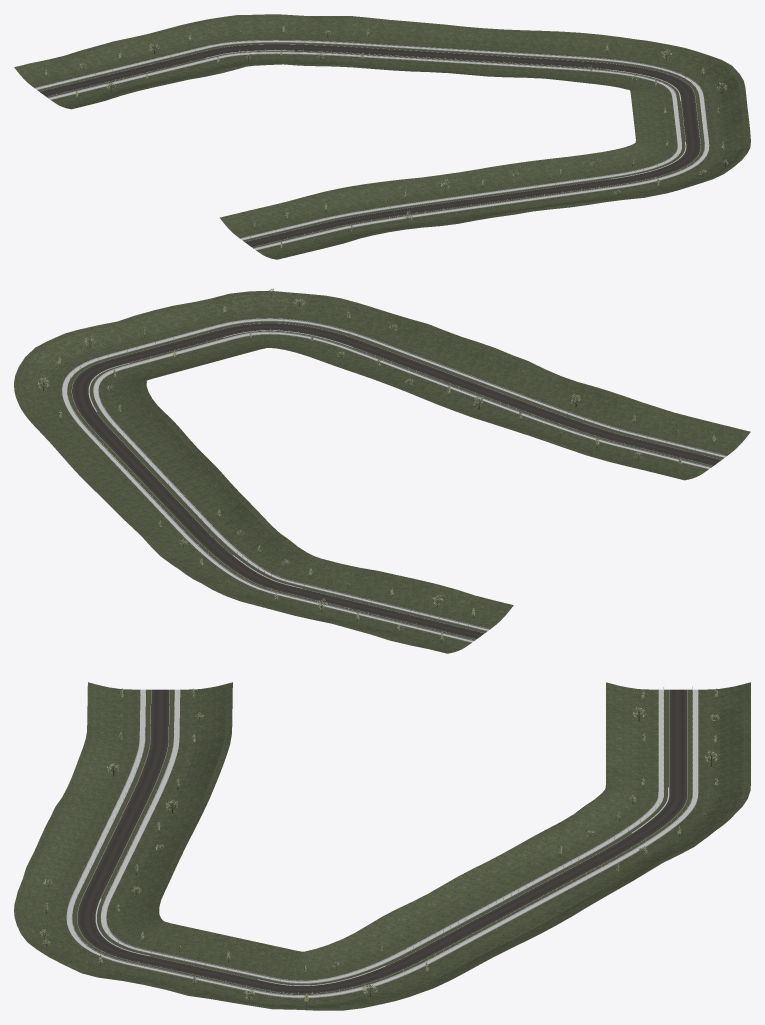
3 renders of one model, top to bottom at view 1: azimuth 30°, elevation 25°; view 2: azimuth 150°, elevation 25°; view 3: azimuth 270°, elevation 25°, orthographic. The views are drawn at different scales.
Visible parts, largest first — view 1: Grass, Track, Road, Trees; view 2: Grass, Road, Track, Trees; view 3: Grass, Road, Track, Trees.
Part boxes in pixels (x1,y1,x2,y2): Grass: (14,14,750,259); Track: (35,40,709,250); Road: (39,44,700,246); Trees: (45,25,728,250); Grass: (14,290,750,653); Road: (72,323,721,639); Track: (62,318,726,642); Trees: (37,288,715,642); Grass: (14,682,750,1010); Road: (77,689,687,993); Track: (66,686,698,998); Trees: (40,688,719,1004).
Size of the model in its own units: 75545 by 1847 by 71140.
